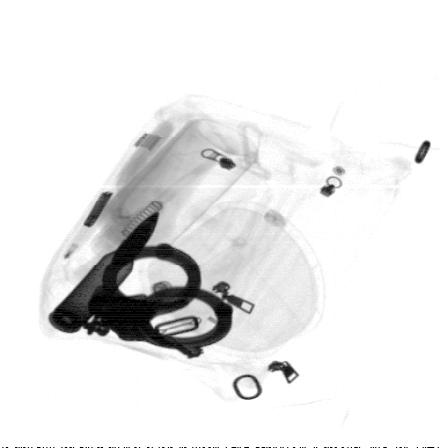Bullet: (48, 208, 161, 334)
HandCuffs: (72, 240, 235, 360)
